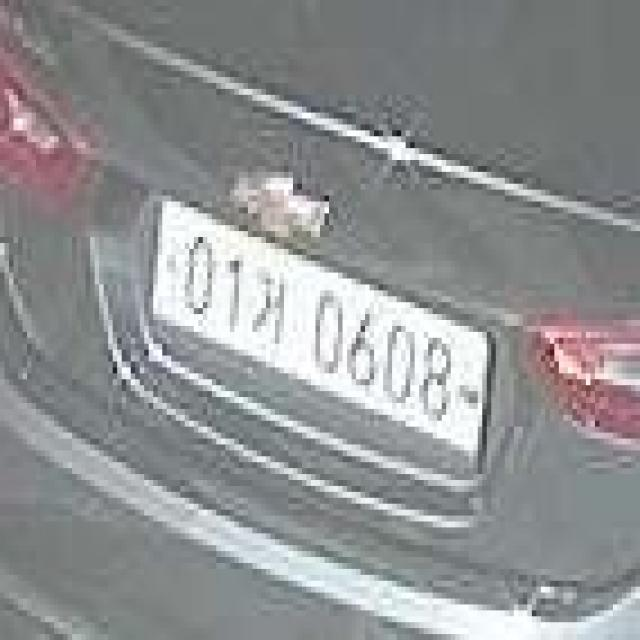illegal_plate: (147, 194, 494, 490)
